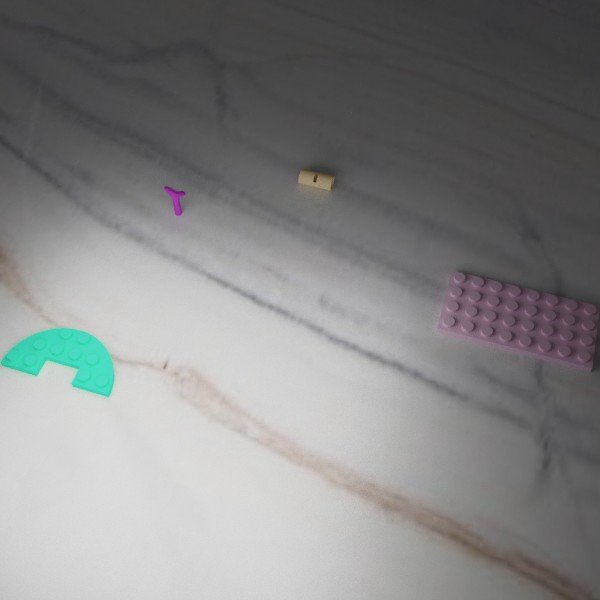lego: (436, 270, 599, 372), (0, 327, 114, 397), (298, 168, 334, 190), (163, 186, 185, 216)
